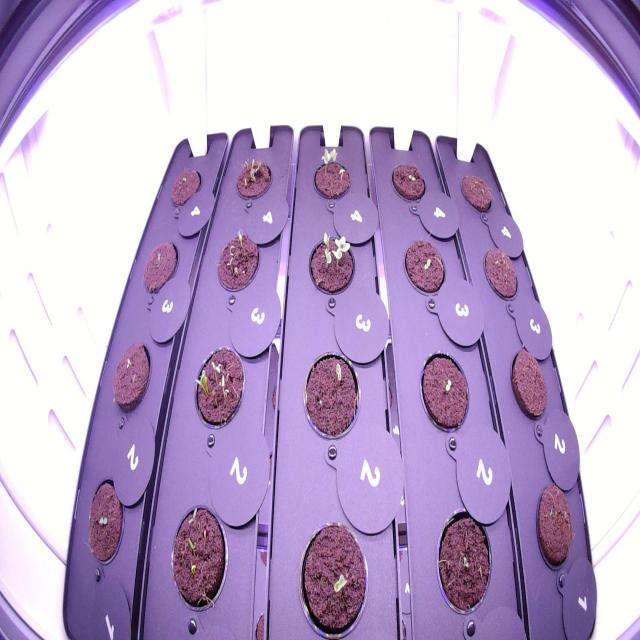germination: (292, 514, 372, 638), (164, 496, 233, 621), (429, 500, 496, 621), (297, 343, 365, 450), (185, 336, 250, 442), (416, 346, 473, 442), (80, 470, 130, 576), (396, 230, 451, 308), (211, 224, 265, 303), (302, 226, 358, 301), (308, 143, 355, 206), (231, 148, 274, 205), (386, 155, 429, 208)
pod: (530, 475, 578, 582), (506, 342, 553, 428), (106, 334, 154, 416), (137, 232, 183, 300), (479, 238, 523, 309), (164, 157, 206, 215), (455, 166, 498, 222)
